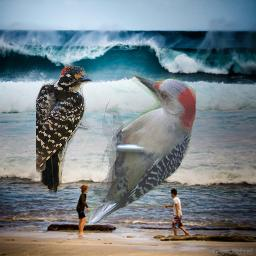Woodpecker: (83, 74, 196, 230), (36, 64, 92, 195)
